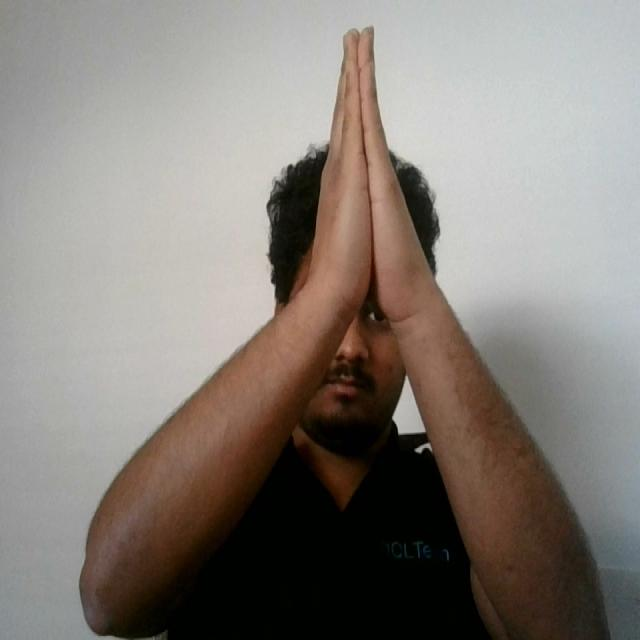Thanks: (300, 15, 426, 324)
